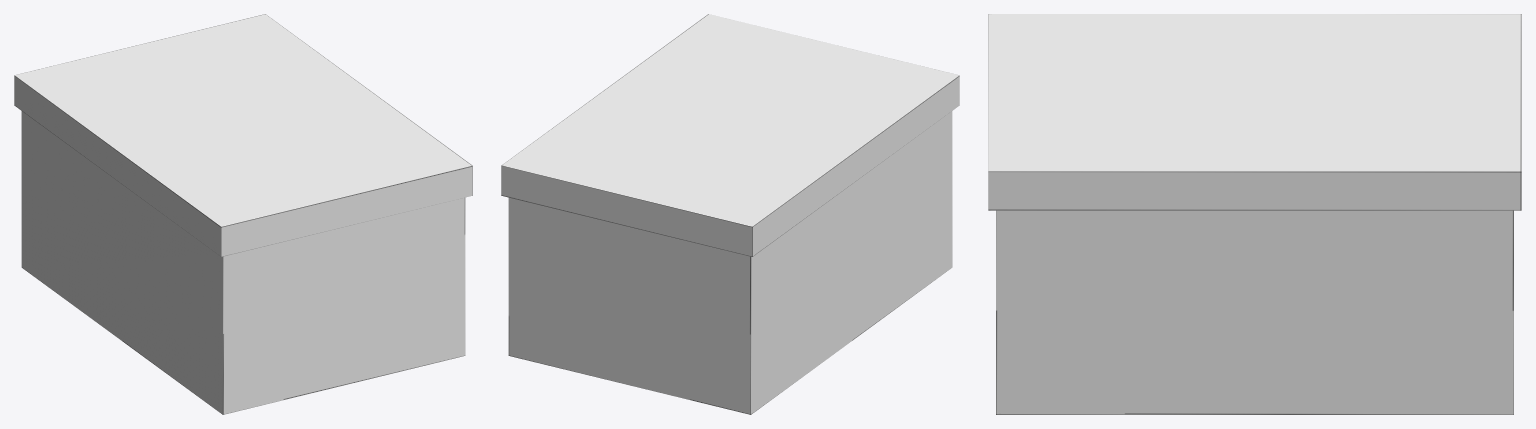
The picture shows the model from 3 angles, left to right: view 1: azimuth 30°, elevation 25°; view 2: azimuth 150°, elevation 25°; view 3: azimuth 270°, elevation 25°; orthographic projection. The views are drawn at different scales.
Parts seen in each view (by area): view 1: 鞋盒; view 2: 鞋盒; view 3: 鞋盒.
Boxes of the visible parts, left/top/right/bottom form: 鞋盒: left=14, top=14, right=472, bottom=414; 鞋盒: left=501, top=14, right=959, bottom=414; 鞋盒: left=988, top=14, right=1521, bottom=414.
Bounding box in the file's own units: 122 × 88.85 × 174.
1 material, 1 textured.
